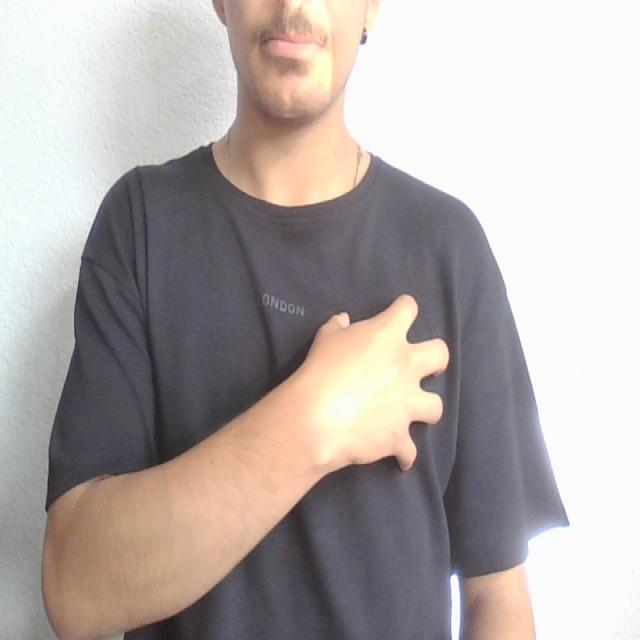Anne: (140, 282, 498, 500)
